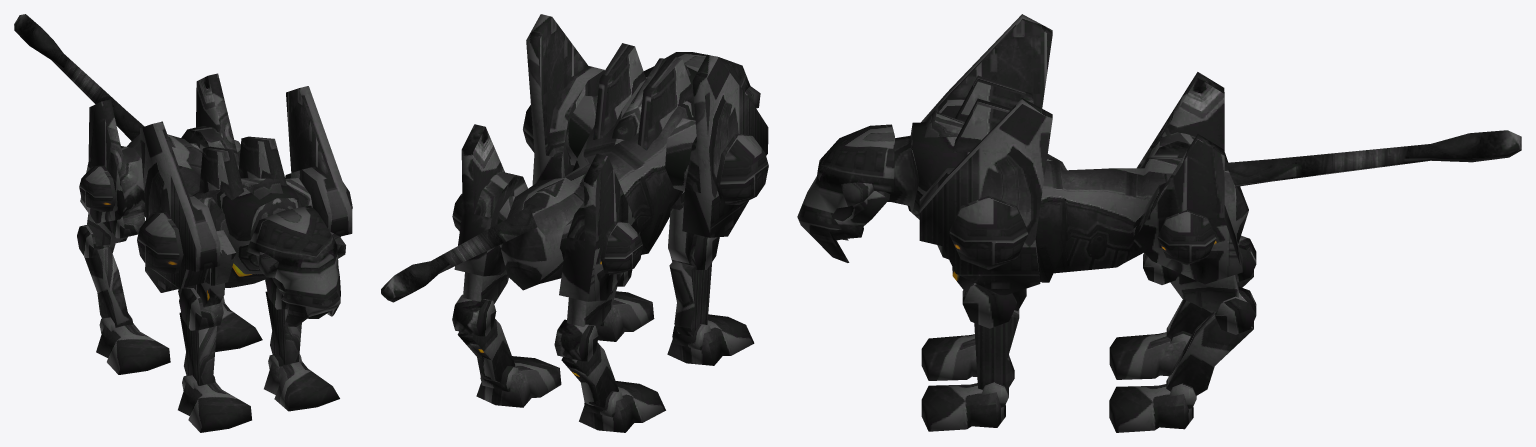
Rendered from predator.glb.
The picture shows the model from 3 angles, left to right: view 1: azimuth 30°, elevation 25°; view 2: azimuth 150°, elevation 25°; view 3: azimuth 270°, elevation 25°; orthographic projection. The views are drawn at different scales.
Size of the model in its own units: 0.6221 by 0.8607 by 1.7.
Materials: 1 (1 with a texture image).
